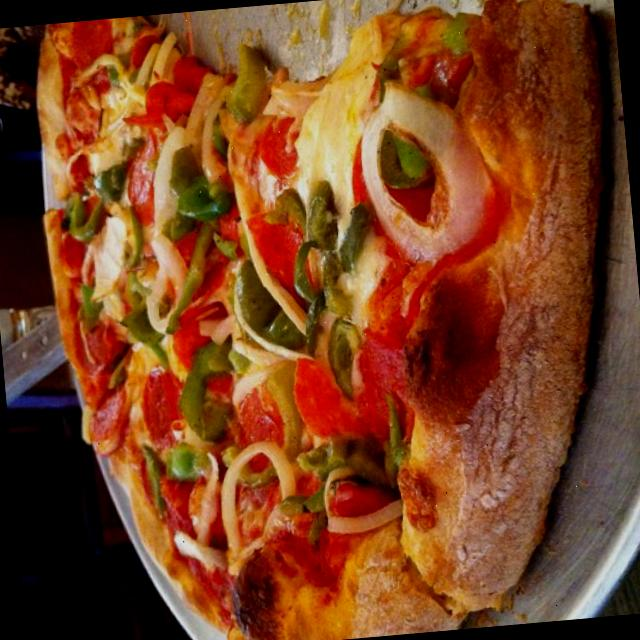Bell Pepper: (212, 358, 304, 492), (286, 179, 352, 357), (153, 209, 243, 338), (368, 38, 442, 188), (293, 406, 410, 487), (174, 336, 240, 440), (160, 139, 239, 223), (236, 255, 296, 356), (94, 158, 144, 271), (218, 36, 274, 122), (120, 301, 172, 377), (277, 482, 331, 553), (60, 182, 110, 248), (328, 321, 363, 396), (336, 205, 374, 269), (438, 8, 478, 59)
cheese: (294, 73, 361, 174)
pepperoni: (137, 366, 186, 448), (85, 381, 136, 454), (119, 125, 162, 208), (61, 75, 104, 154)
pizza: (41, 0, 603, 640)
tomato: (290, 348, 354, 442), (134, 52, 208, 122), (361, 313, 419, 400), (246, 202, 300, 286)
